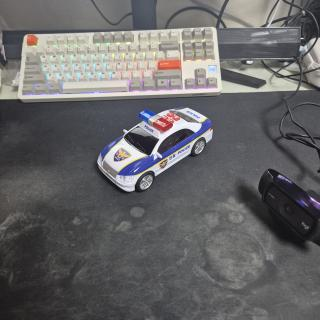Police_car: (98, 107, 213, 192)
